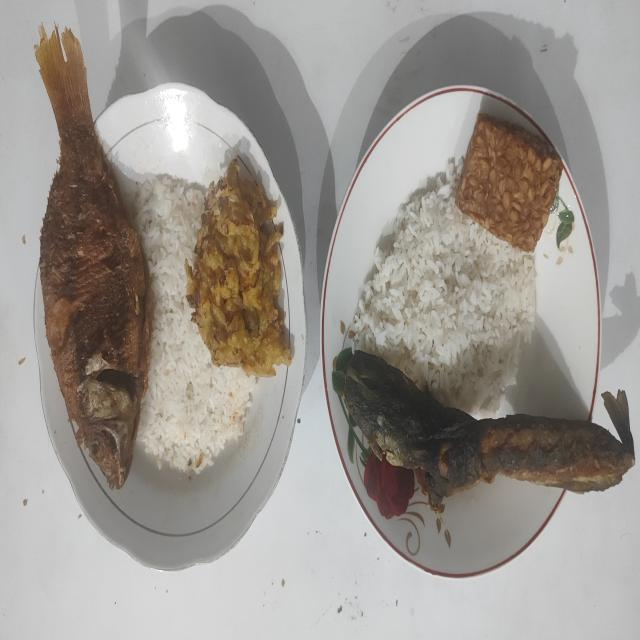ikan_mujair: (36, 26, 151, 487)
nasi_putih: (350, 158, 536, 416), (137, 175, 257, 476)
tempe_goreng: (456, 114, 562, 252)
